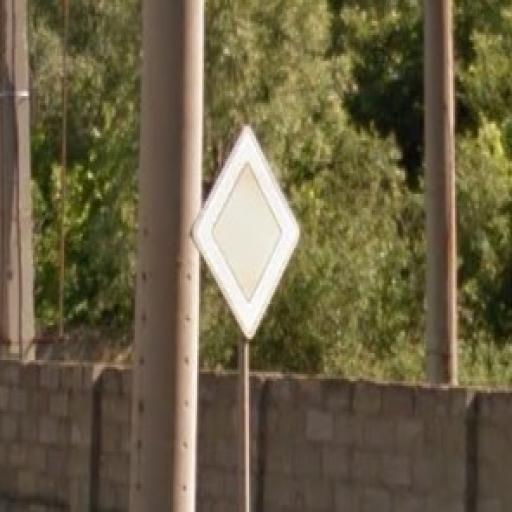traffic_sign: (191, 125, 302, 342)
